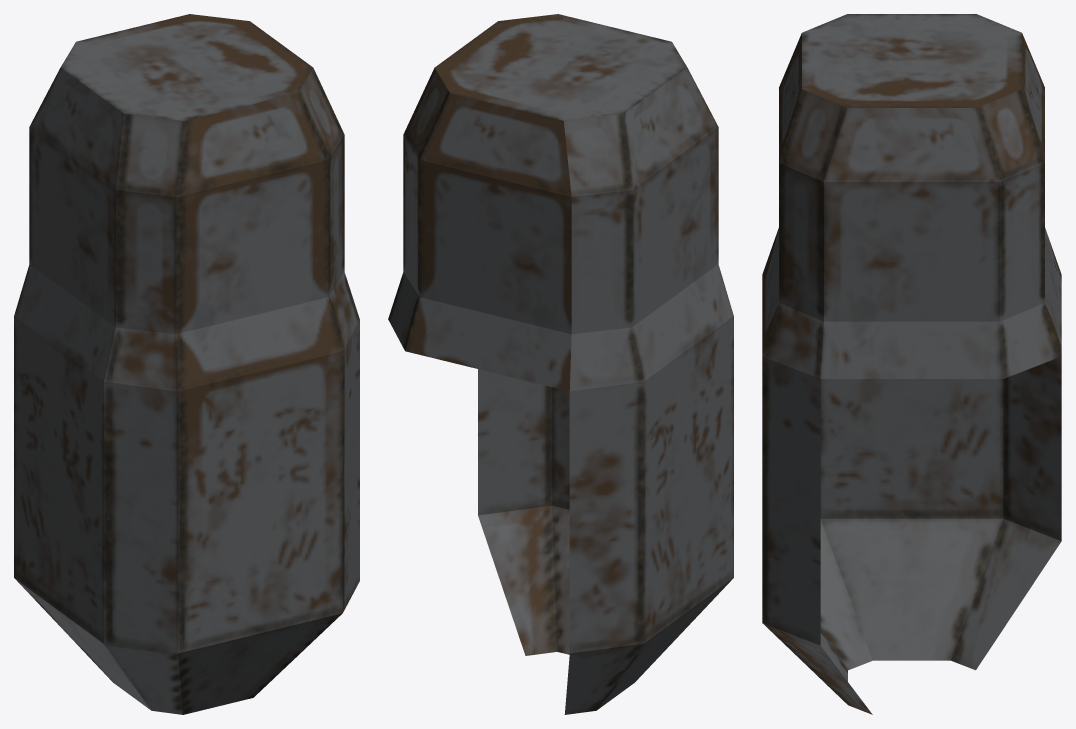
File: mesh_BuildingA_TrimCornerCapBalcony_v2.3.fbx
3 views of the same model, side by side, from view 1: azimuth 30°, elevation 25°; view 2: azimuth 150°, elevation 25°; view 3: azimuth 270°, elevation 25° (orthographic).
Parts seen in each view (by area): view 1: mesh_BuildingA_TrimCornerCapBalcony; view 2: mesh_BuildingA_TrimCornerCapBalcony; view 3: mesh_BuildingA_TrimCornerCapBalcony.
Boxes of the visible parts, left/top/right/bottom form: mesh_BuildingA_TrimCornerCapBalcony: left=14, top=14, right=359, bottom=714; mesh_BuildingA_TrimCornerCapBalcony: left=388, top=14, right=733, bottom=714; mesh_BuildingA_TrimCornerCapBalcony: left=762, top=14, right=1061, bottom=714.
Bounding box in the file's own units: 52.22 × 120 × 51.96.
